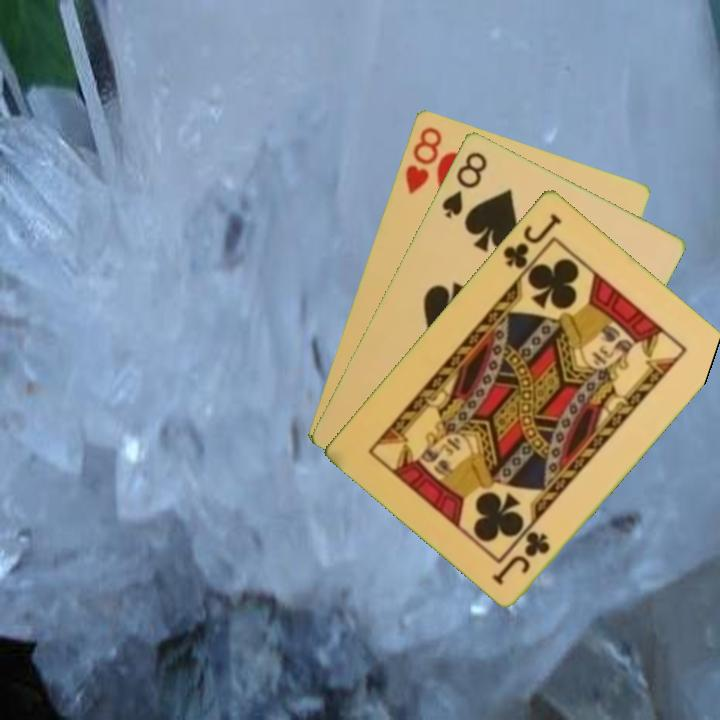8h: (401, 123, 445, 196)
8s: (438, 147, 490, 221)
Jc: (499, 209, 565, 272), (489, 526, 554, 587)
